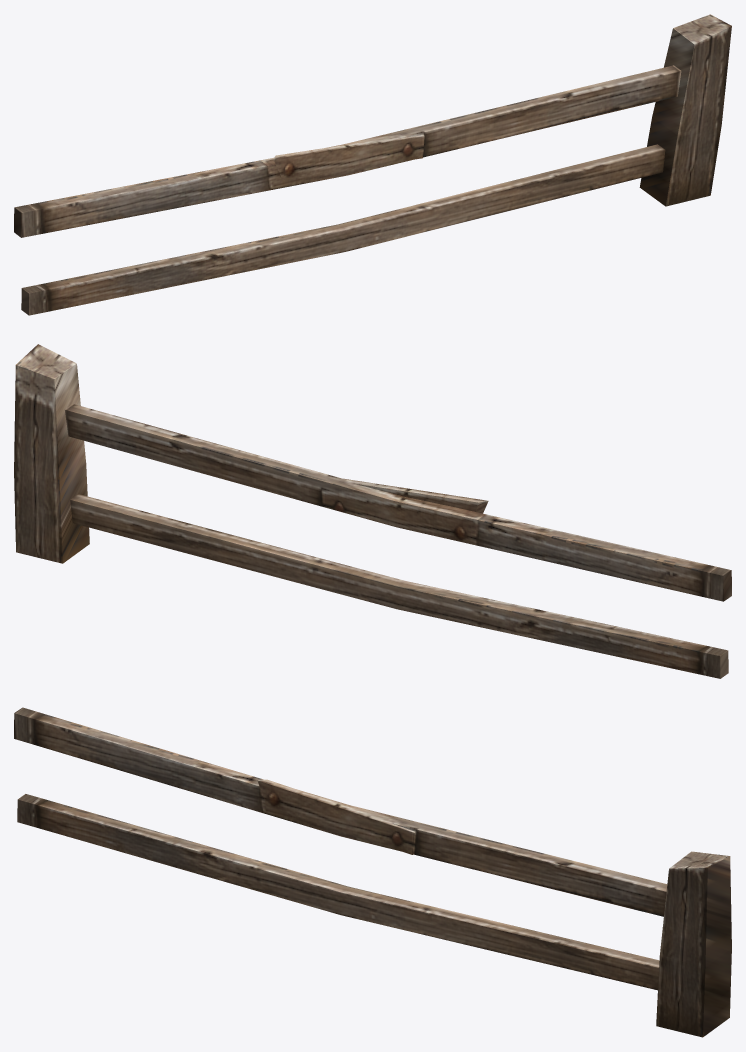
Rendered from start_fence_05.glb.
3 views of the same model, one above another, from view 1: azimuth 30°, elevation 25°; view 2: azimuth 150°, elevation 25°; view 3: azimuth 330°, elevation 25° (orthographic). The views are drawn at different scales.
Visible parts, largest first — view 1: start_fence_05_game; view 2: start_fence_05_game; view 3: start_fence_05_game.
Part boxes in pixels (x1,y1,x2,y2): start_fence_05_game: (14, 14, 731, 315); start_fence_05_game: (14, 344, 731, 678); start_fence_05_game: (14, 707, 731, 1037).
Size of the model in its own units: 4.94 by 1.18 by 0.4251.
Materials: 1 (1 with a texture image).
